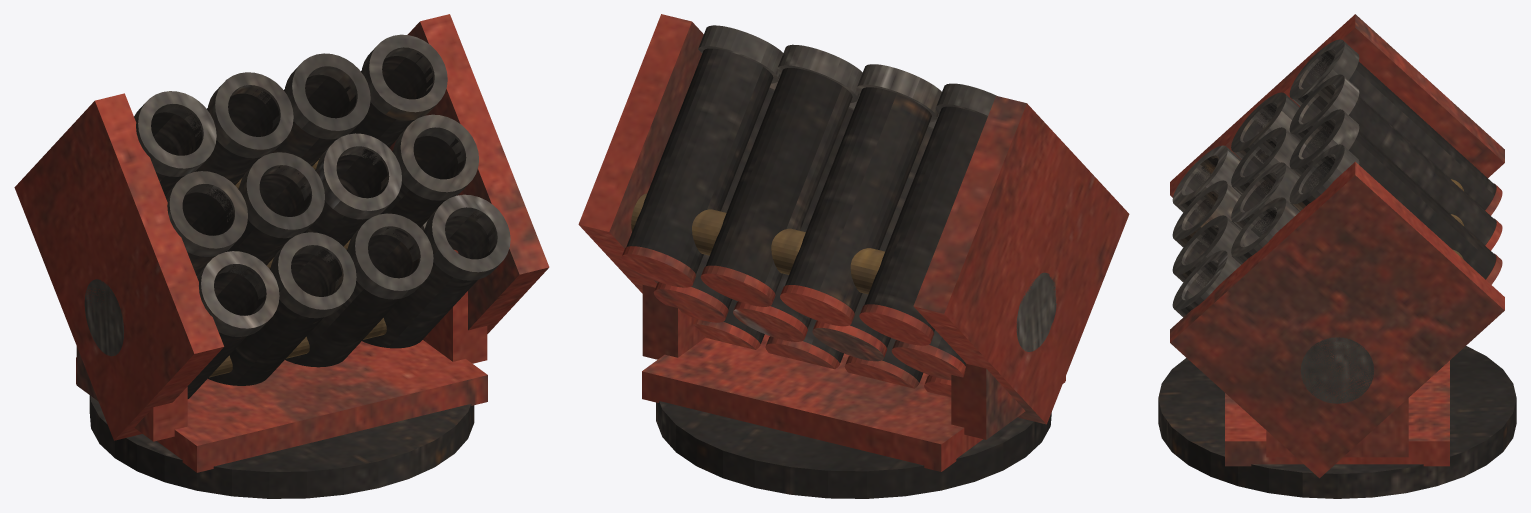
File: grenade_lobber_12_v01.glb
The picture shows the model from 3 angles, left to right: view 1: azimuth 30°, elevation 25°; view 2: azimuth 150°, elevation 25°; view 3: azimuth 270°, elevation 25°; orthographic projection. The views are drawn at different scales.
Parts seen in each view (by area): view 1: RACK_SIDE_PLATE_-1, PEDESTAL_FOOT, ROTARY_ADAPTER, RACK_SIDE_PLATE_1, GRENADE_TUBE_R1_C2, GRENADE_TUBE_R1_C3, GRENADE_TUBE_R1_C4, MUZZLE_COLLAR_R2_C2, MUZZLE_COLLAR_R3_C3, MUZZLE_COLLAR_R1_C4, MUZZLE_COLLAR_R2_C4, MUZZLE_COLLAR_R3_C4 (+20 smaller); view 2: RACK_SIDE_PLATE_-1, PEDESTAL_FOOT, ROTARY_ADAPTER, GRENADE_TUBE_R3_C4, GRENADE_TUBE_R3_C3, GRENADE_TUBE_R3_C2, RACK_SIDE_PLATE_1, GRENADE_TUBE_R3_C1, YOKE_-1, ROW_SUPPORT_2, YOKE_1, TRUNNION_-1 (+18 smaller); view 3: RACK_SIDE_PLATE_1, ROTARY_ADAPTER, RACK_SIDE_PLATE_-1, PEDESTAL_FOOT, GRENADE_TUBE_R3_C1, GRENADE_TUBE_R3_C2, GRENADE_TUBE_R3_C3, TRUNNION_1, YOKE_1, MUZZLE_COLLAR_R3_C1, MUZZLE_COLLAR_R3_C3, MUZZLE_COLLAR_R3_C2 (+16 smaller).
Boxes of the visible parts, x1,y1,x2,y2 form: RACK_SIDE_PLATE_-1: (14, 93, 224, 440); PEDESTAL_FOOT: (76, 340, 487, 472); ROTARY_ADAPTER: (89, 395, 474, 498); RACK_SIDE_PLATE_1: (389, 14, 549, 333); GRENADE_TUBE_R1_C2: (208, 248, 341, 385); GRENADE_TUBE_R1_C3: (285, 227, 419, 367); GRENADE_TUBE_R1_C4: (362, 210, 495, 348); MUZZLE_COLLAR_R2_C2: (239, 152, 324, 238); MUZZLE_COLLAR_R3_C3: (284, 53, 370, 139); MUZZLE_COLLAR_R1_C4: (424, 194, 510, 280); MUZZLE_COLLAR_R2_C4: (393, 114, 478, 200); MUZZLE_COLLAR_R3_C4: (361, 34, 447, 120); RACK_SIDE_PLATE_-1: (913, 95, 1129, 424); PEDESTAL_FOOT: (642, 334, 1065, 471); ROTARY_ADAPTER: (656, 401, 1051, 498); GRENADE_TUBE_R3_C4: (626, 48, 773, 273); GRENADE_TUBE_R3_C3: (705, 68, 852, 293); GRENADE_TUBE_R3_C2: (785, 87, 931, 312); RACK_SIDE_PLATE_1: (578, 14, 703, 293); GRENADE_TUBE_R3_C1: (864, 106, 987, 332); YOKE_-1: (951, 363, 1065, 439); ROW_SUPPORT_2: (631, 193, 884, 294); YOKE_1: (642, 285, 705, 359); TRUNNION_-1: (1016, 272, 1056, 351); RACK_SIDE_PLATE_1: (1170, 161, 1504, 478); ROTARY_ADAPTER: (1158, 346, 1516, 498); RACK_SIDE_PLATE_-1: (1170, 14, 1504, 197); PEDESTAL_FOOT: (1225, 360, 1449, 466); GRENADE_TUBE_R3_C1: (1301, 54, 1496, 210); GRENADE_TUBE_R3_C2: (1301, 95, 1496, 245); GRENADE_TUBE_R3_C3: (1301, 123, 1496, 279); TRUNNION_1: (1300, 337, 1374, 403); YOKE_1: (1266, 398, 1408, 457); MUZZLE_COLLAR_R3_C1: (1289, 39, 1359, 106); MUZZLE_COLLAR_R3_C3: (1289, 109, 1359, 176); MUZZLE_COLLAR_R3_C2: (1289, 74, 1359, 141).
Size of the model in its own units: 1.66 by 1.58 by 1.56.
Materials: 4 (4 with a texture image).
